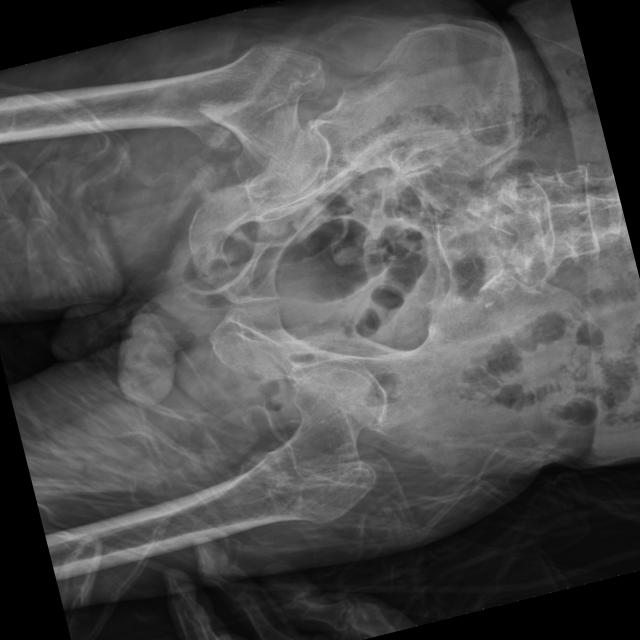normal-left: (176, 369, 376, 545)
right-intertrochanteric: (196, 42, 329, 198), (138, 45, 287, 148)
